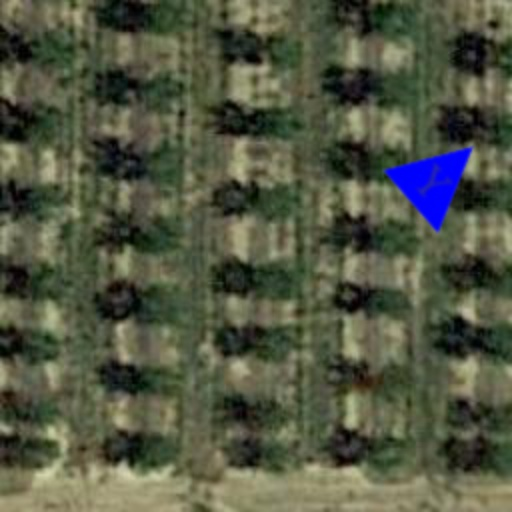triangle: (382, 114, 502, 234)
